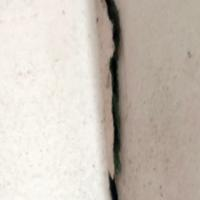crack: (86, 0, 144, 199)
